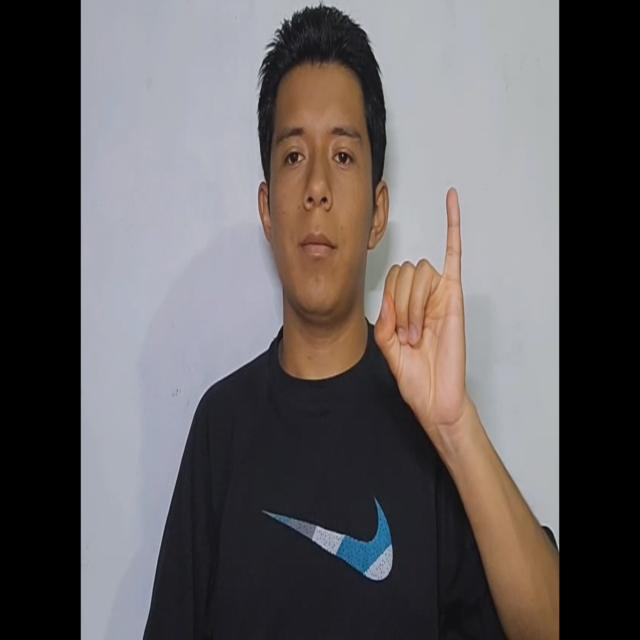I: (376, 175, 474, 435)
